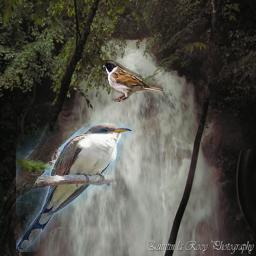Cuckoo: (16, 122, 133, 252)
Sparrow: (101, 60, 163, 102)
